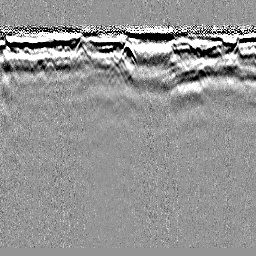cavity: (119, 39, 136, 64)
